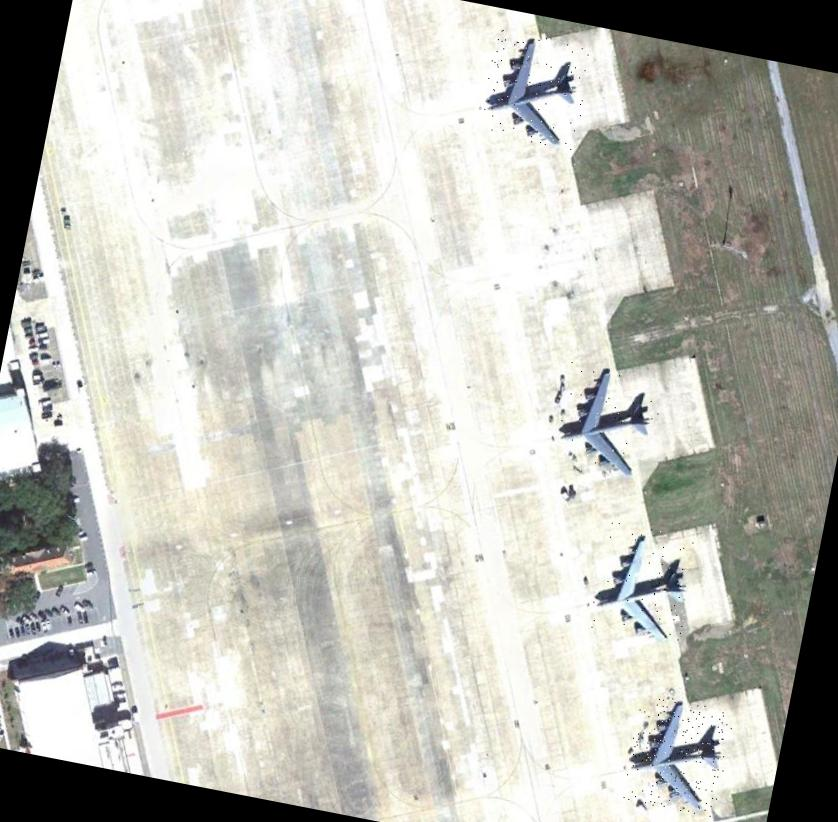A8: (476, 28, 594, 151), (620, 692, 735, 818), (587, 521, 700, 648), (550, 360, 666, 482)
